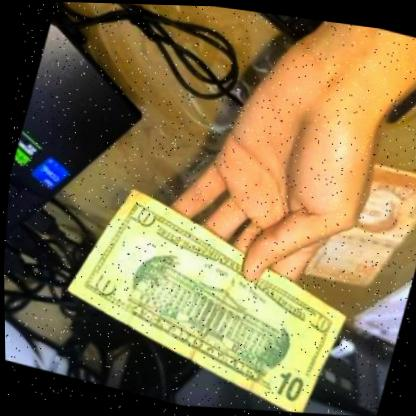dollar_back: (33, 155, 372, 416)
